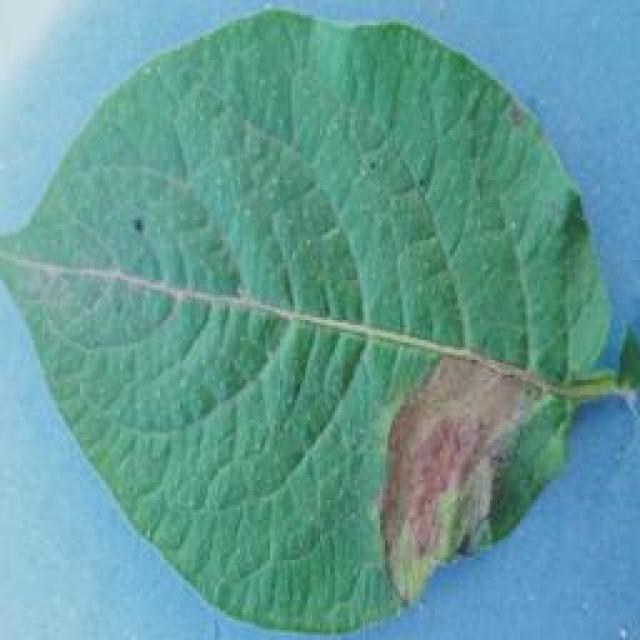Potato_Late_Blight: (6, 0, 619, 627)
